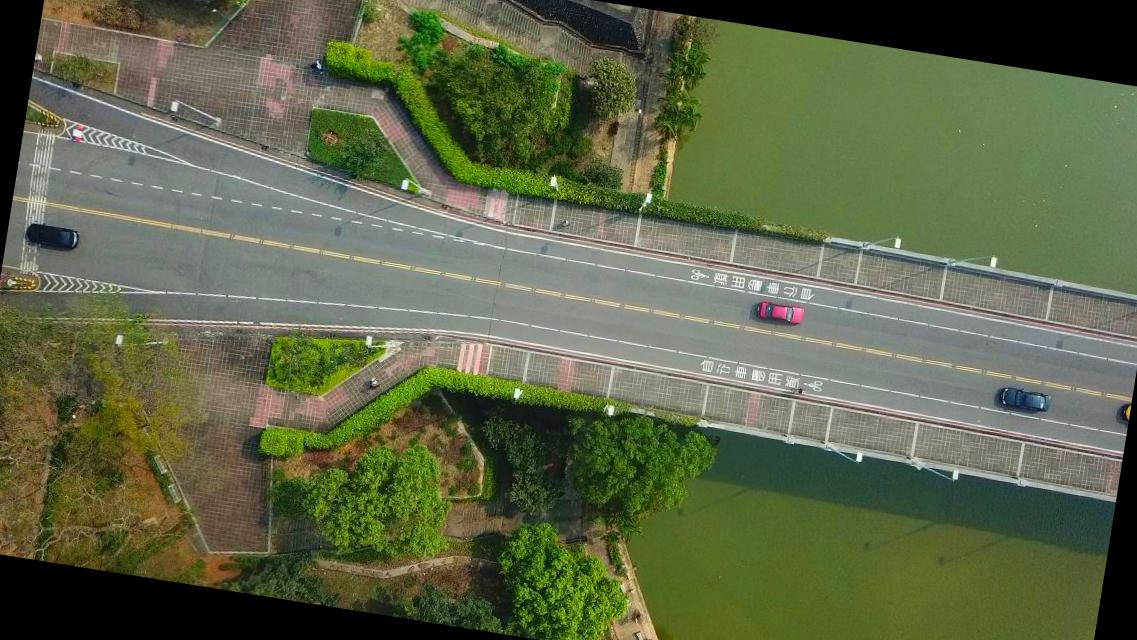vehicle: (24, 220, 80, 252), (996, 385, 1050, 414), (755, 300, 804, 326)
